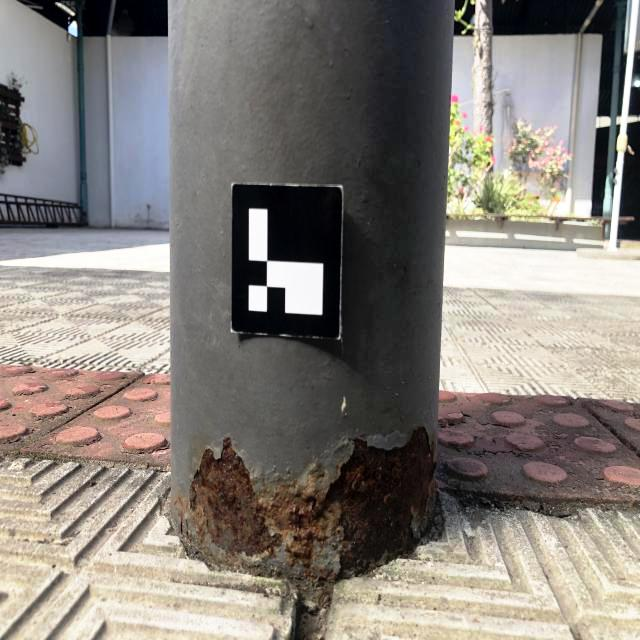Corrosion: (174, 424, 437, 581)
